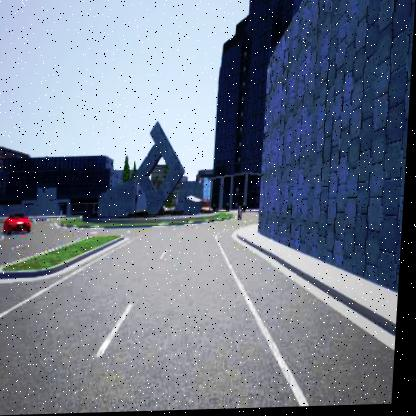bike: (237, 206, 246, 223)
vehicle: (5, 212, 34, 234)
